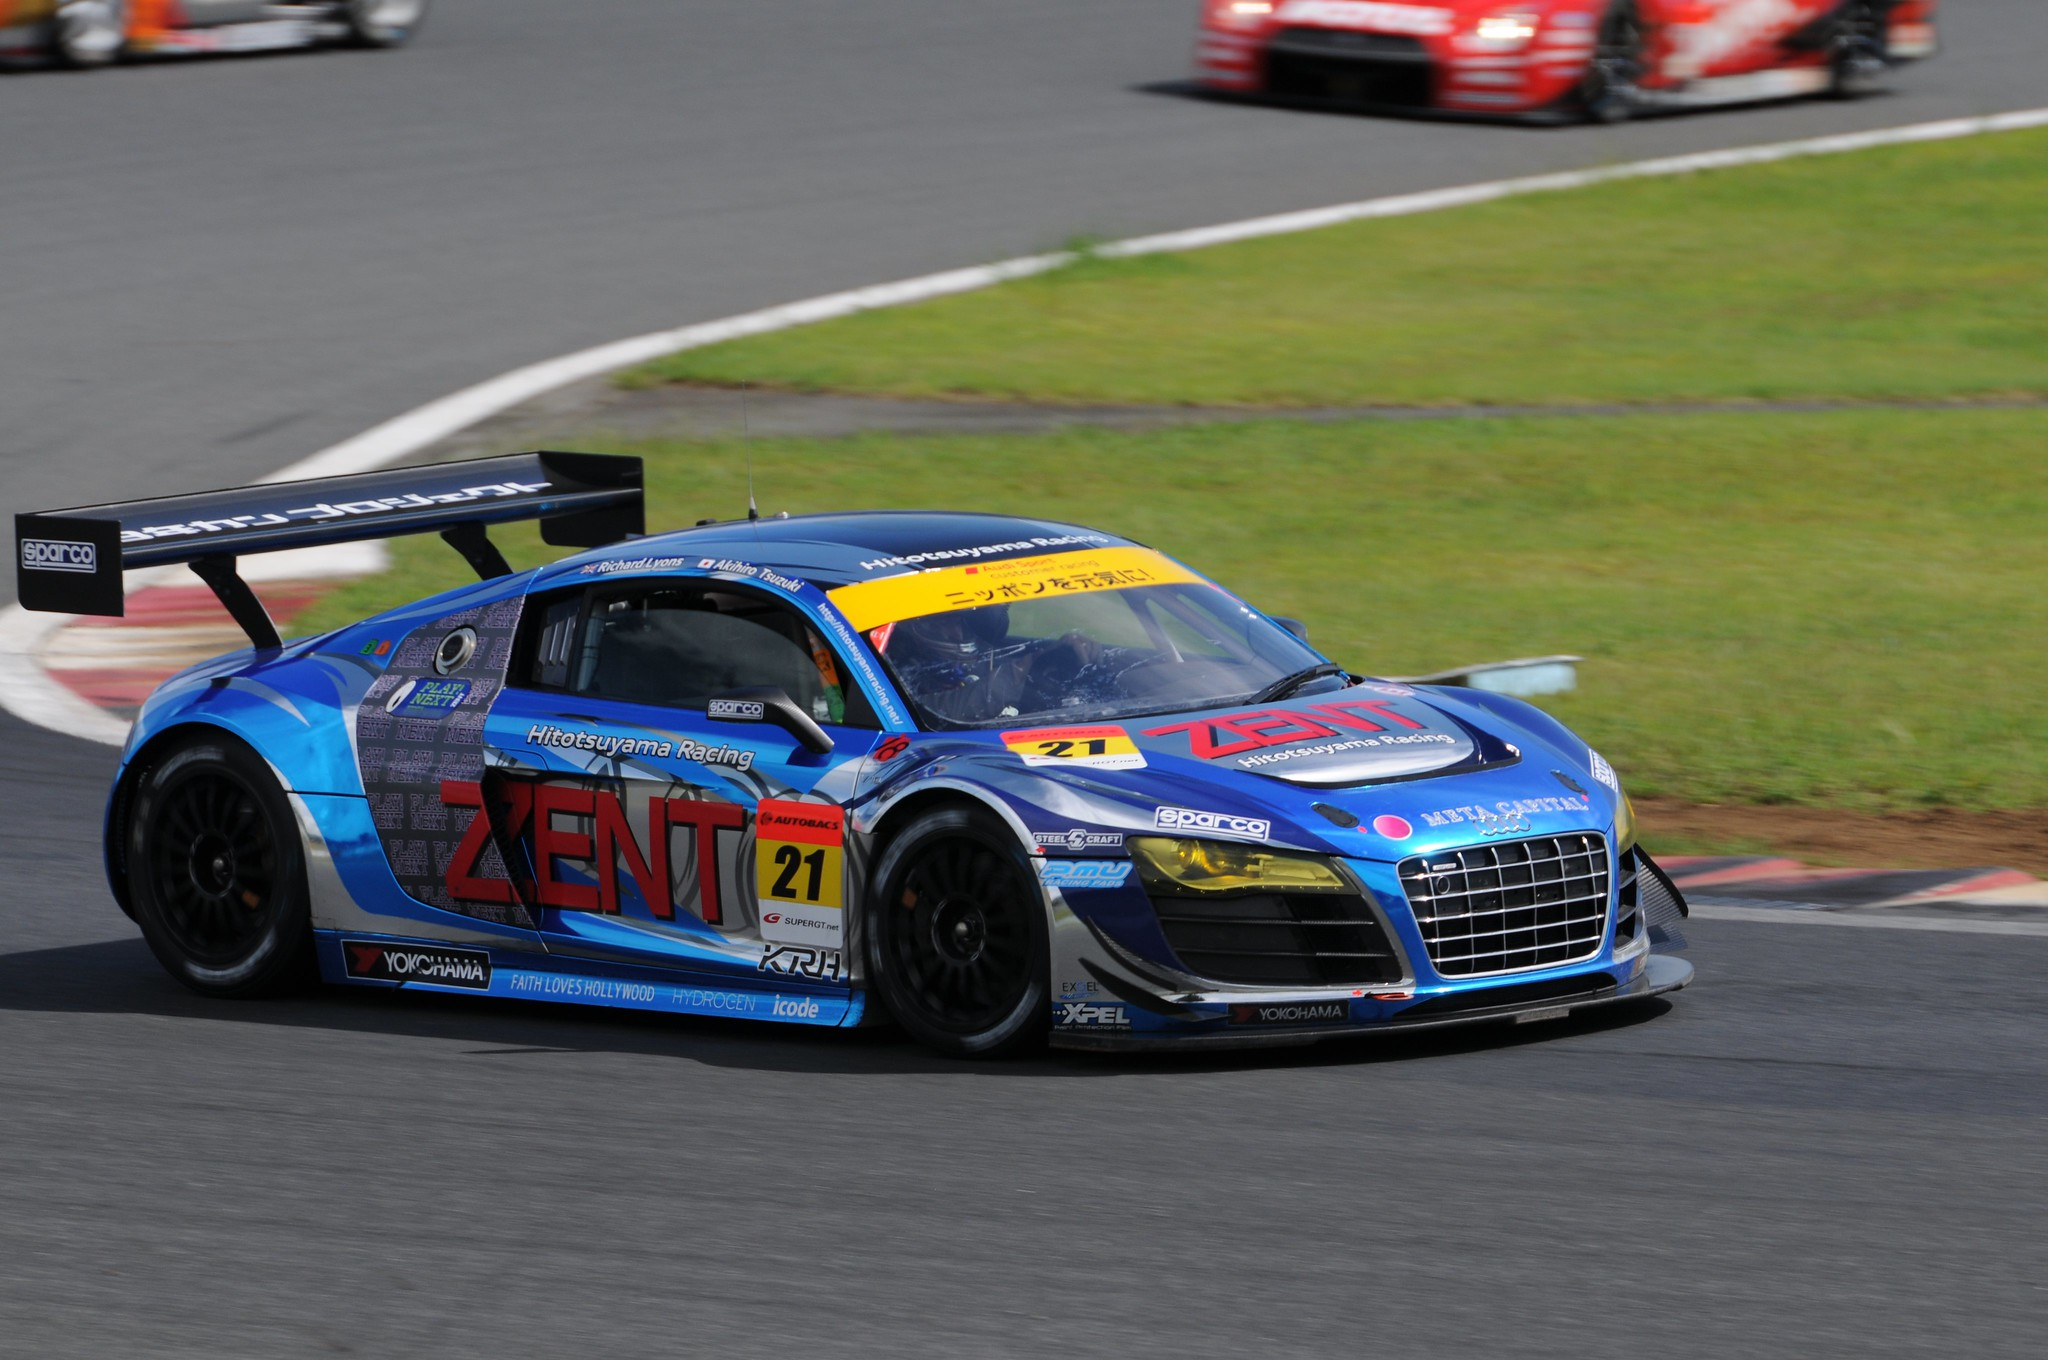Car: (17, 420, 1710, 1049)
